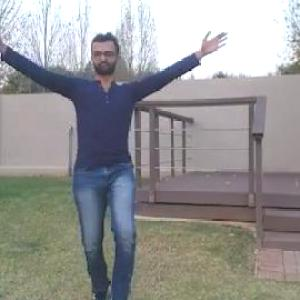takeoff: (0, 27, 231, 298)
